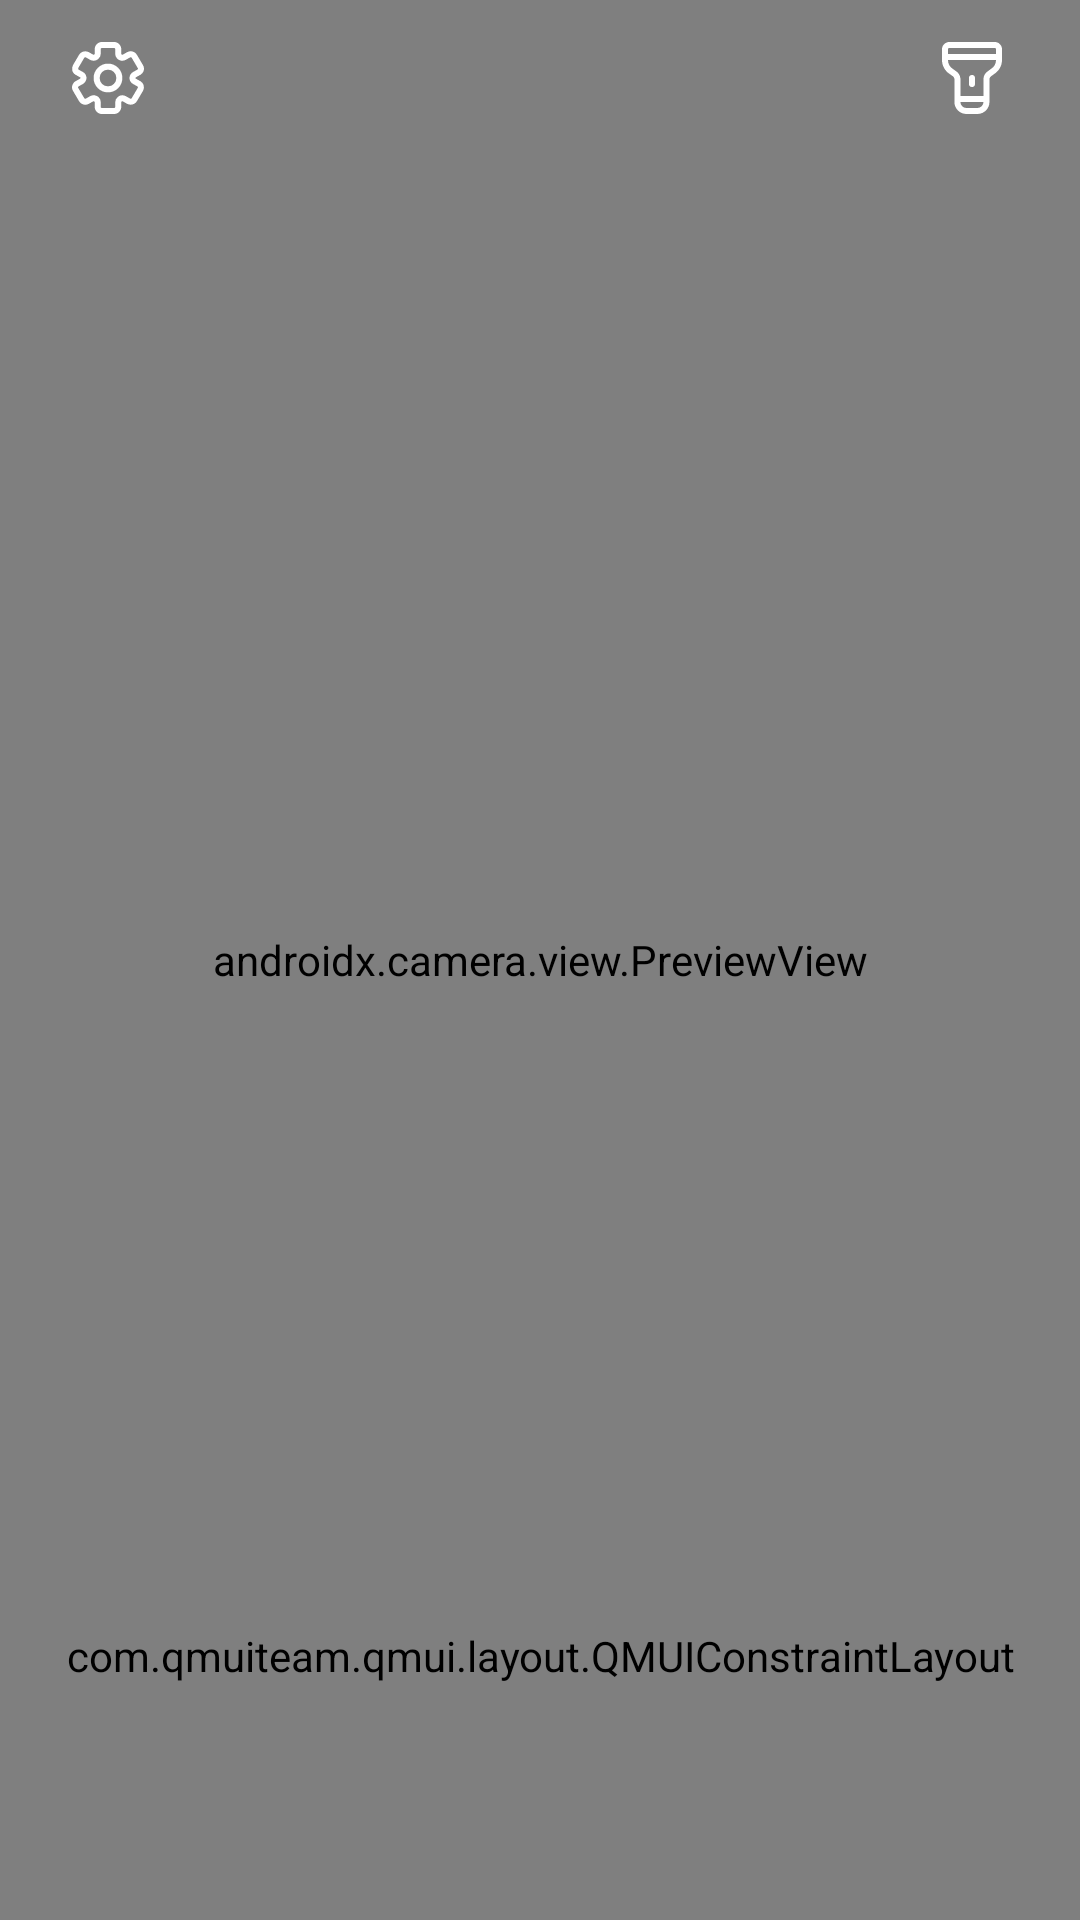

Named icons in this screenshot (1080*1920) and their bounding boxes, (x1, y1, x2, y2):
flashlight: (942, 42, 1002, 114)
setting: (72, 42, 144, 114)
